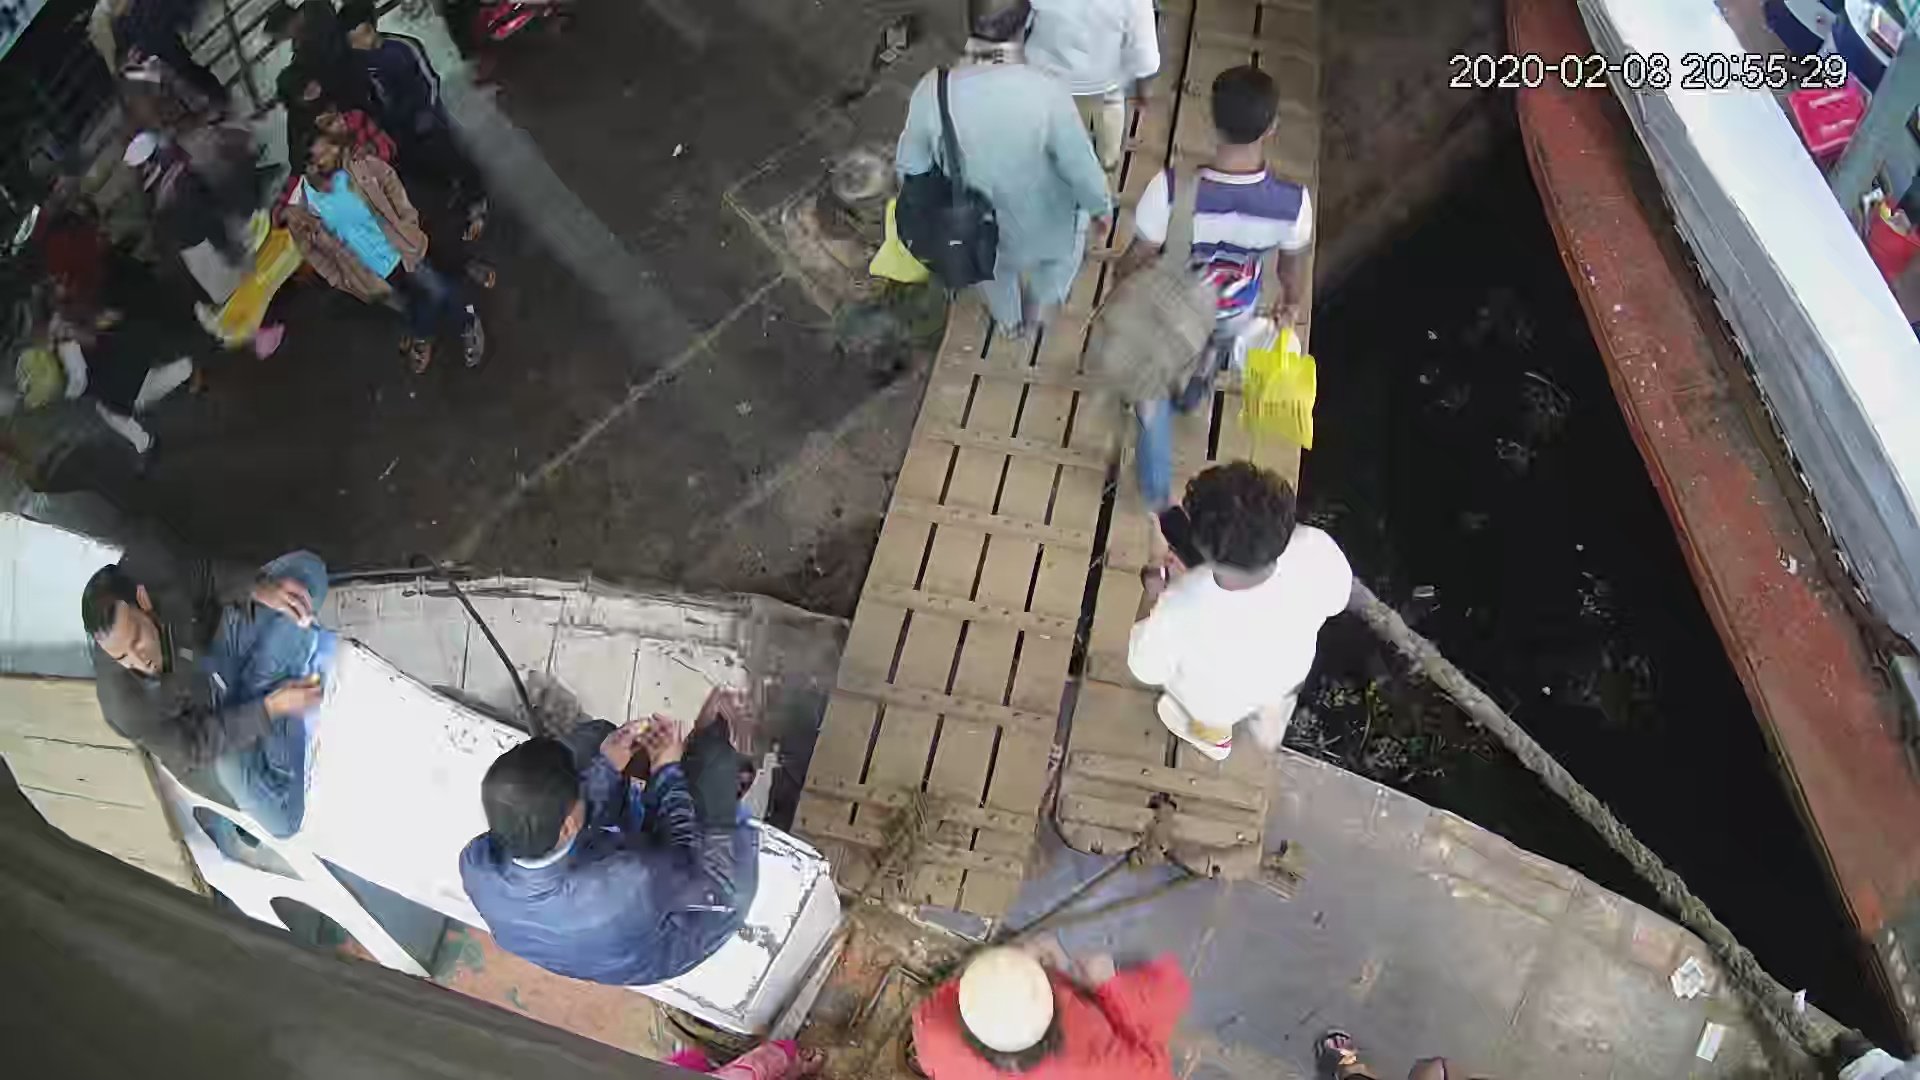person: (456, 681, 762, 989), (1098, 58, 1321, 471), (877, 1, 1110, 339), (75, 537, 334, 840), (1125, 465, 1354, 765), (289, 139, 491, 375), (899, 929, 1182, 1076), (114, 128, 300, 338), (346, 21, 518, 234), (40, 307, 208, 469), (1020, 1, 1156, 164)
